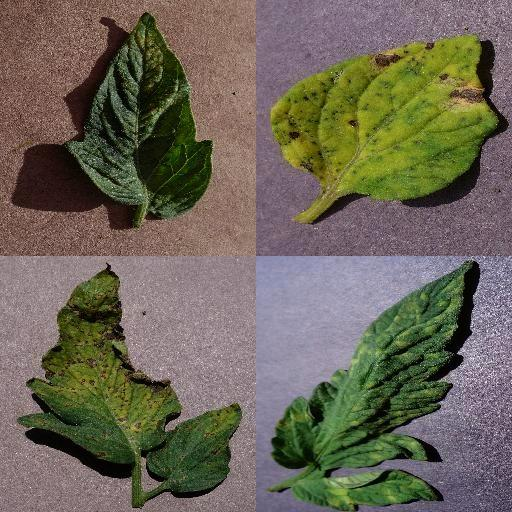Leaf Mold: (271, 261, 471, 467), (295, 468, 439, 512)
Septoria: (274, 36, 498, 200), (15, 262, 181, 464)
Spider Mites: (63, 14, 213, 218)
